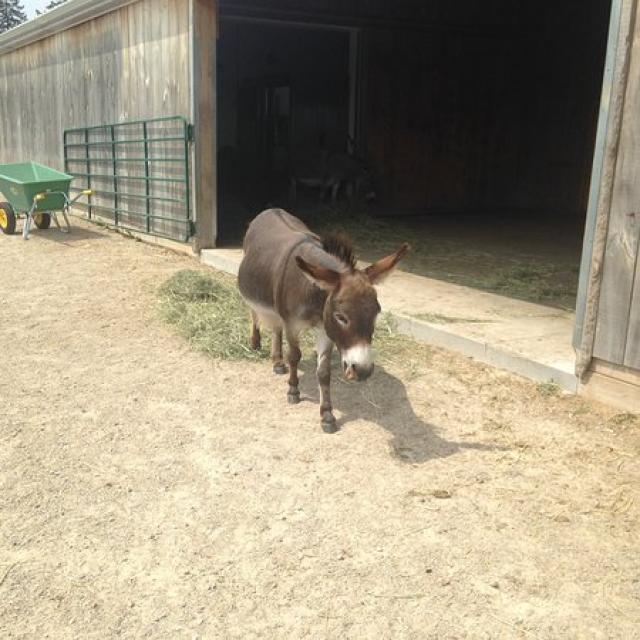Donkey: (236, 211, 409, 434)
